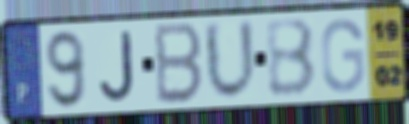9: (43, 28, 87, 111)
B: (263, 16, 318, 99), (154, 20, 205, 107)
G: (319, 15, 367, 96)
J: (97, 28, 138, 104)
U: (202, 17, 260, 105)
